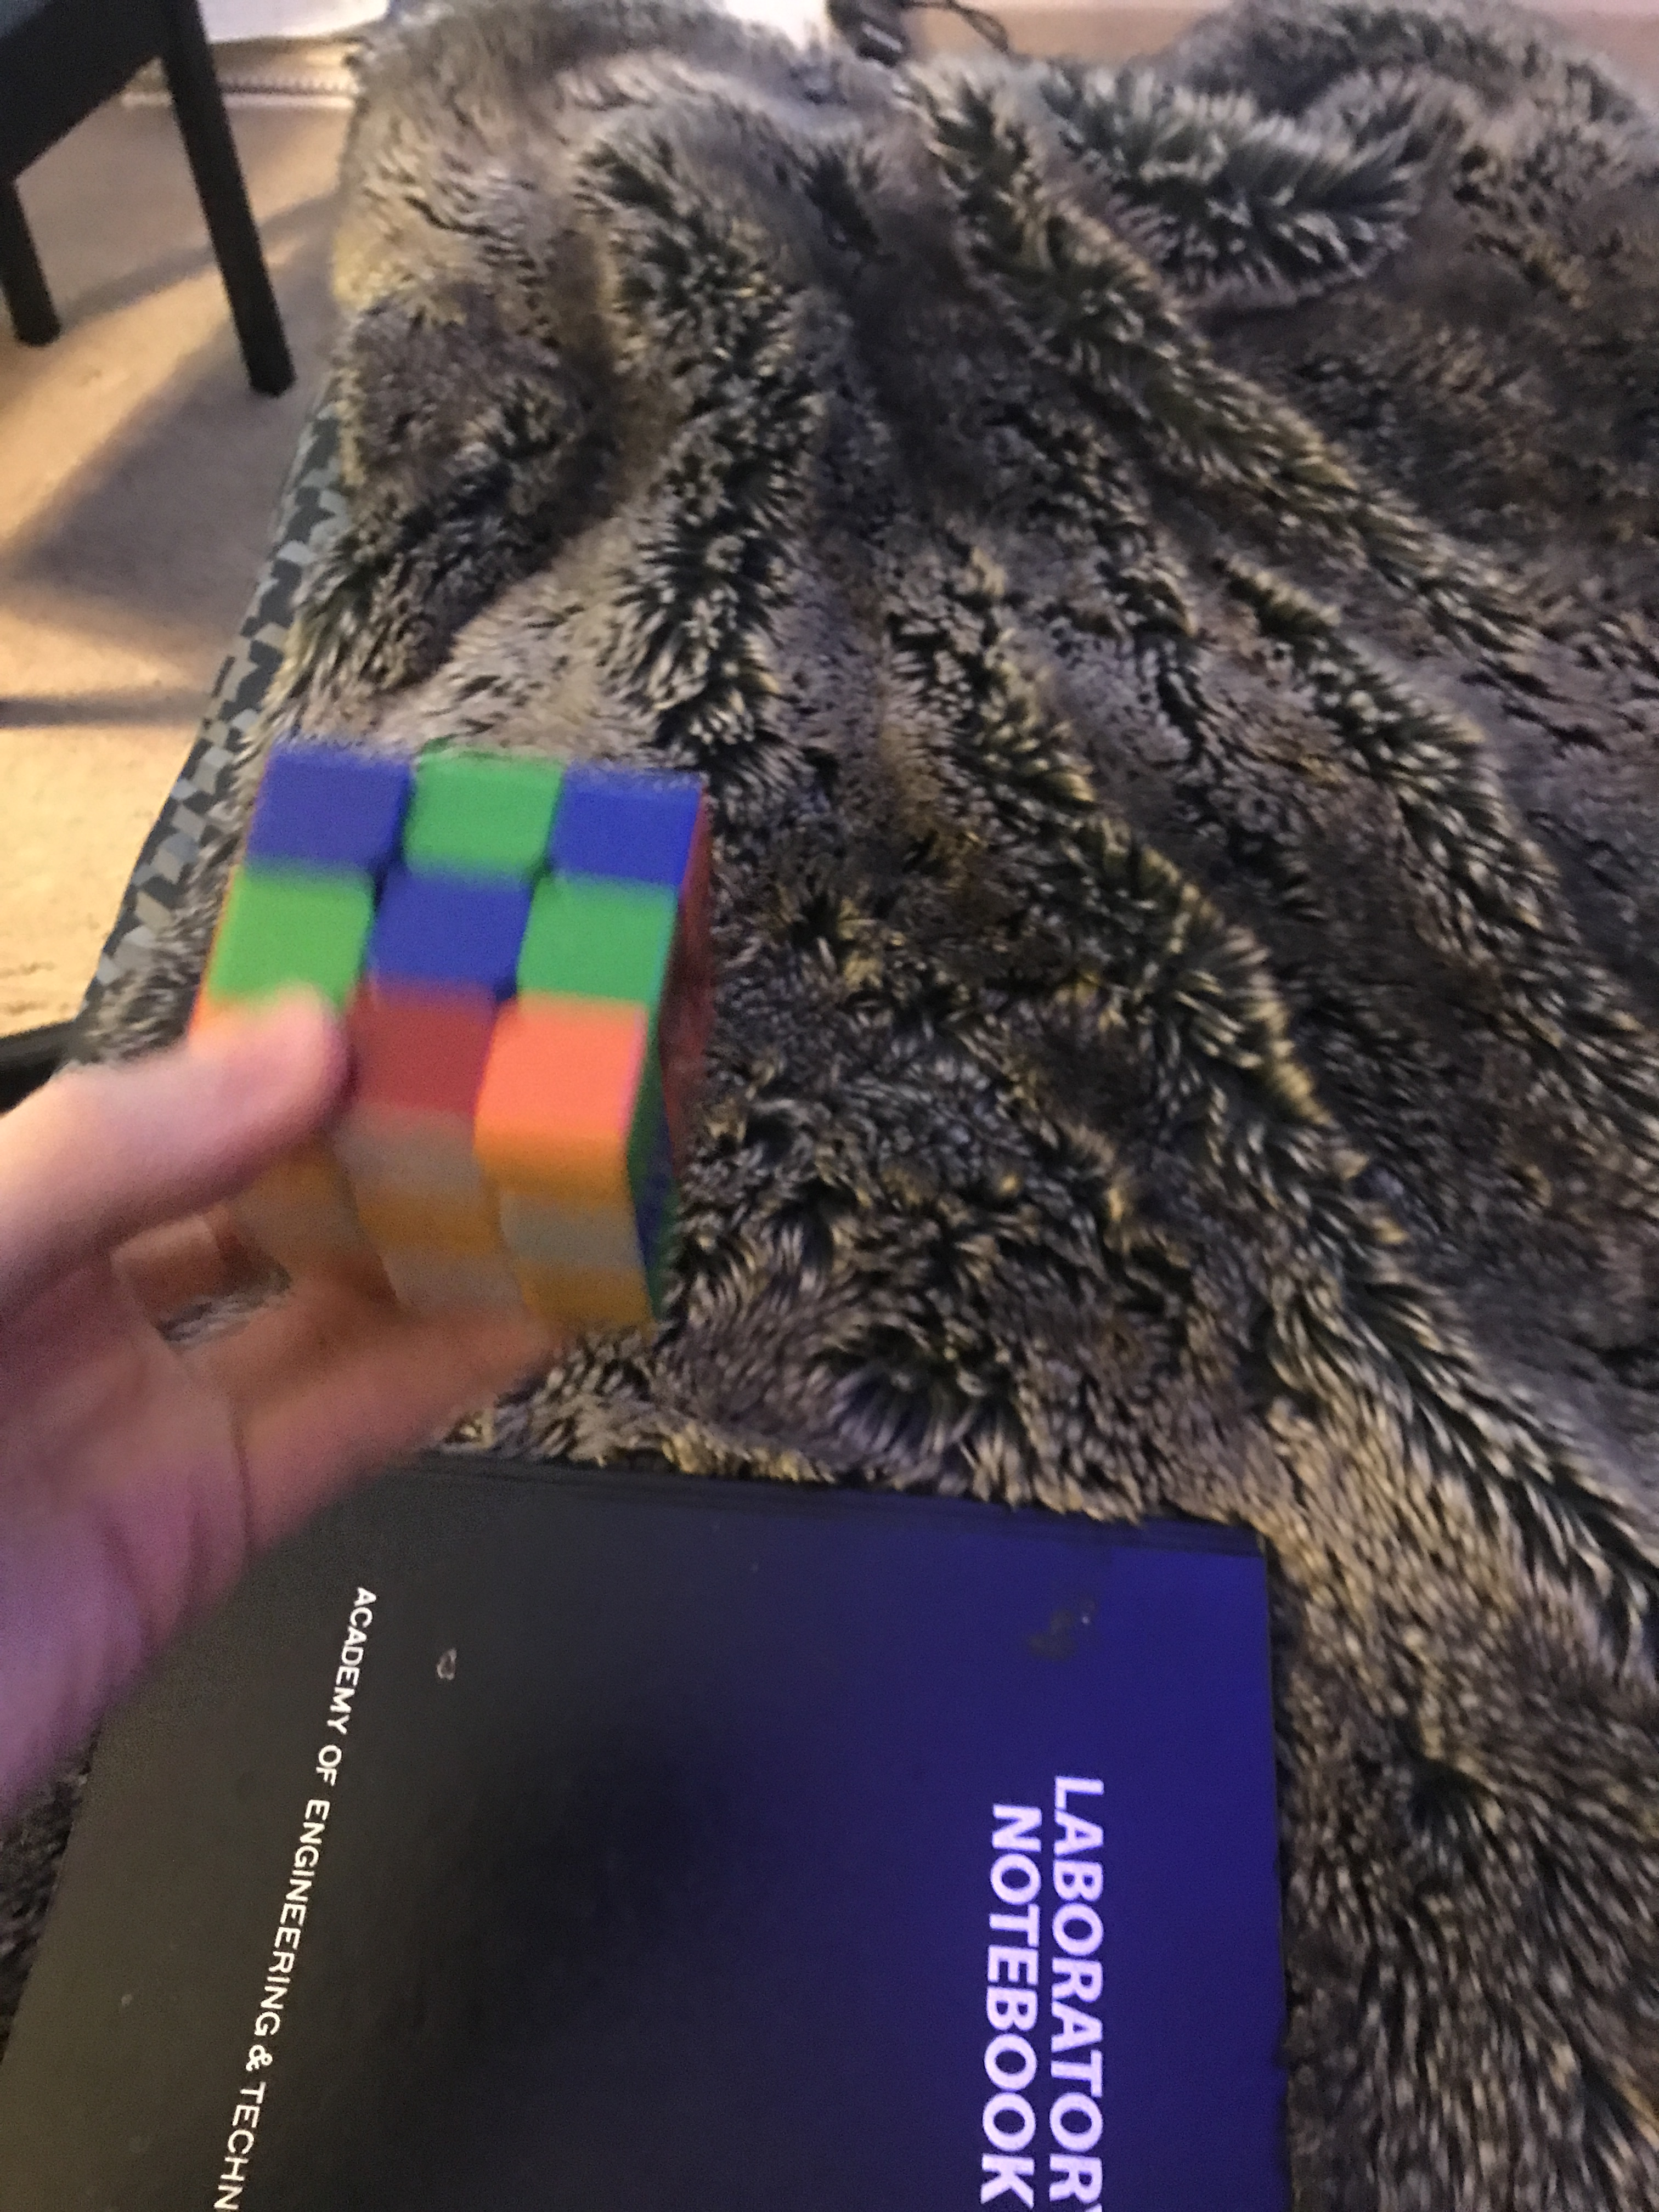rubiks: (192, 744, 720, 1350)
